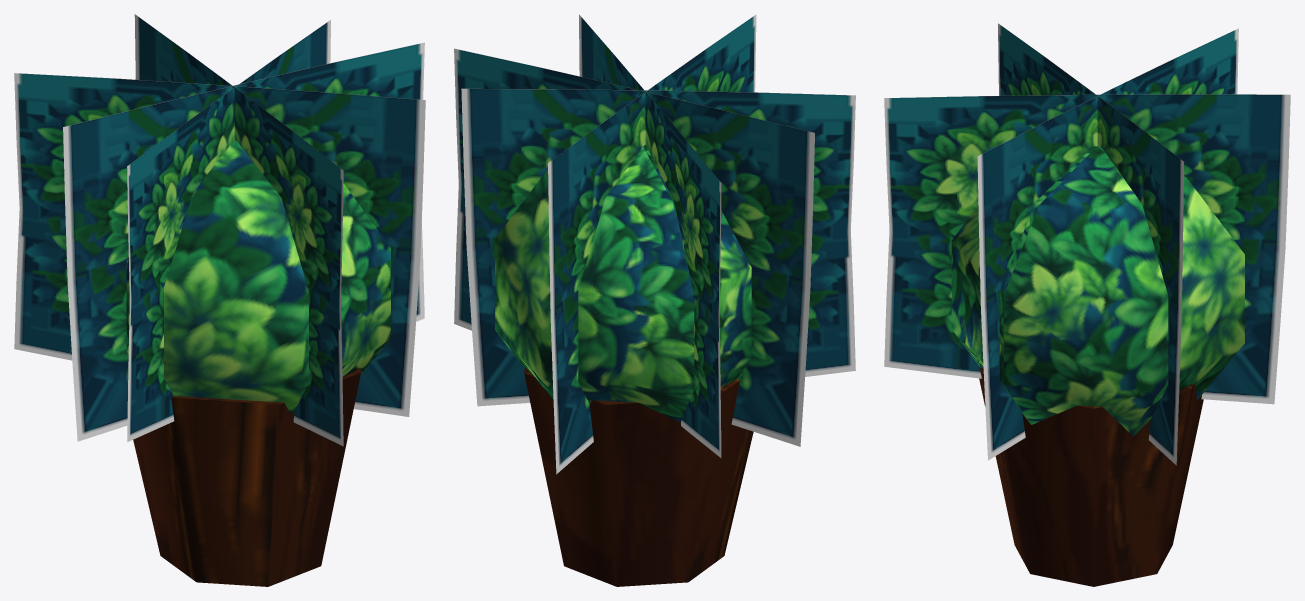
Rendered from SM_PROP_PLANT_pot_v6_01.glb.
3 renders of one model, left to right at view 1: azimuth 30°, elevation 25°; view 2: azimuth 150°, elevation 25°; view 3: azimuth 270°, elevation 25°, orthographic. The views are drawn at different scales.
Visible parts, largest first — view 1: SM_PROP_PLANT_pot_v6_01_EXPORT; view 2: SM_PROP_PLANT_pot_v6_01_EXPORT; view 3: SM_PROP_PLANT_pot_v6_01_EXPORT.
Boxes of the visible parts, box(x1,y1,x2,y2) form: SM_PROP_PLANT_pot_v6_01_EXPORT: box(14, 14, 425, 586); SM_PROP_PLANT_pot_v6_01_EXPORT: box(454, 14, 855, 586); SM_PROP_PLANT_pot_v6_01_EXPORT: box(884, 23, 1290, 586).
Size of the model in its own units: 0.7639 by 0.9427 by 0.7639.
2 materials, 2 textured.
